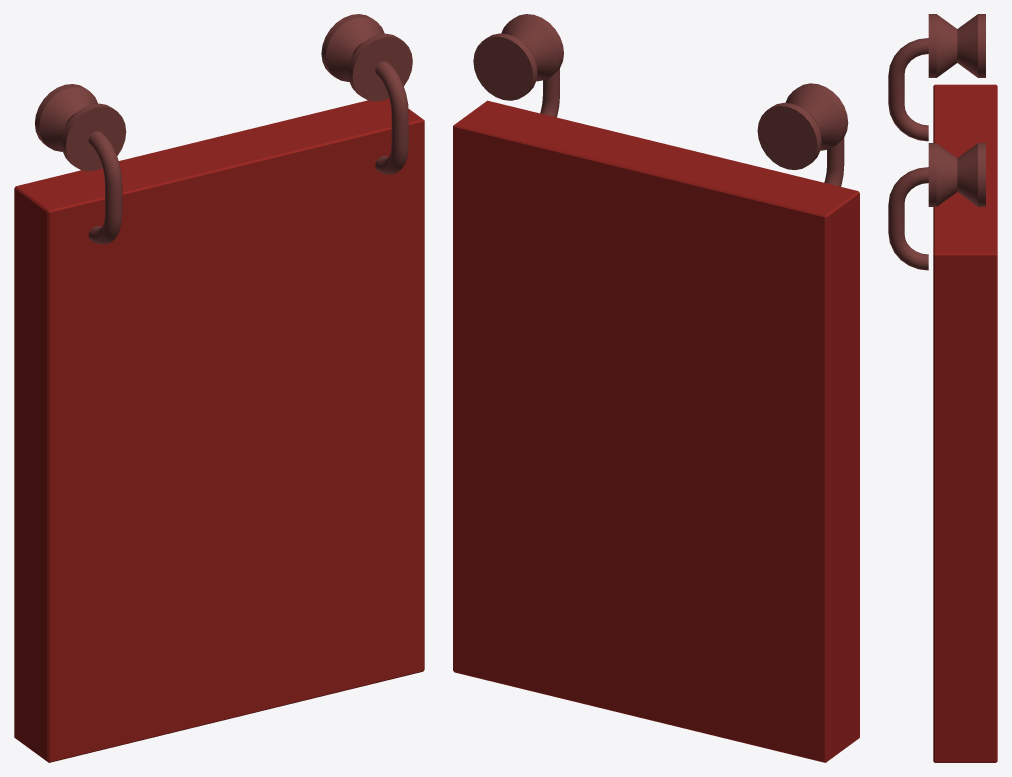
File: Bridge-DoorLeft.fbx
The picture shows the model from 3 angles, left to right: view 1: azimuth 30°, elevation 25°; view 2: azimuth 150°, elevation 25°; view 3: azimuth 270°, elevation 25°; orthographic projection. The views are drawn at different scales.
Visible parts, largest first — view 1: Bridge-DoorLeft; view 2: Bridge-DoorLeft; view 3: Bridge-DoorLeft.
Boxes of the visible parts, x1,y1,x2,y2 form: Bridge-DoorLeft: [14, 14, 424, 762]; Bridge-DoorLeft: [453, 14, 859, 762]; Bridge-DoorLeft: [888, 14, 997, 762].
Size of the model in its own units: 2.5 by 4.1 by 0.6787.
1 material, 1 textured.
